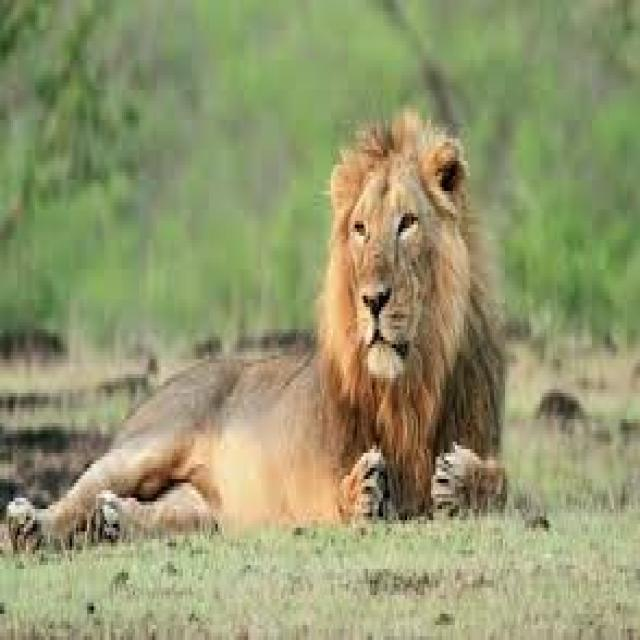Lion: (10, 104, 513, 560)
